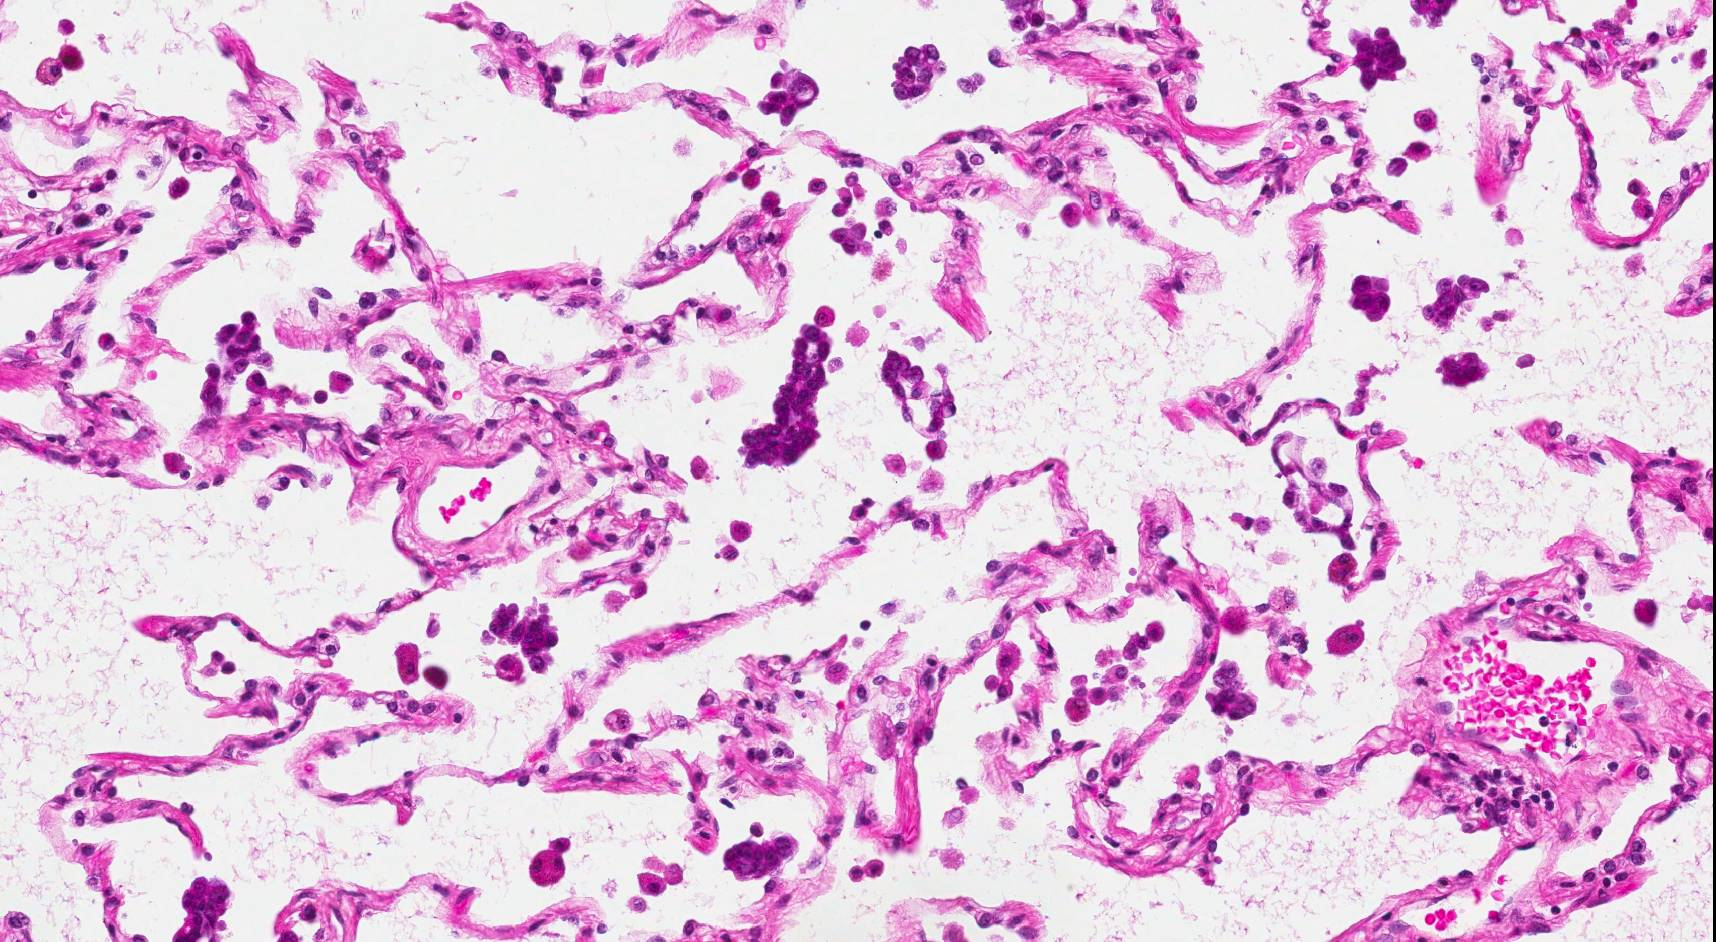stas: (738, 317, 833, 469), (197, 303, 278, 417), (876, 346, 963, 439), (480, 598, 563, 684), (167, 870, 235, 942), (1350, 21, 1411, 96), (1420, 270, 1496, 332), (757, 61, 822, 129), (722, 828, 799, 885), (1202, 658, 1264, 729), (884, 40, 949, 102), (1349, 267, 1397, 326), (1435, 349, 1494, 393), (1396, 1, 1463, 33)
